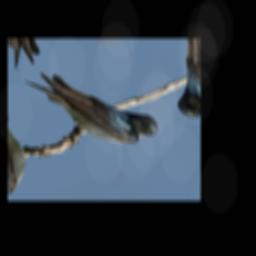Swallow: (17, 47, 164, 165)
